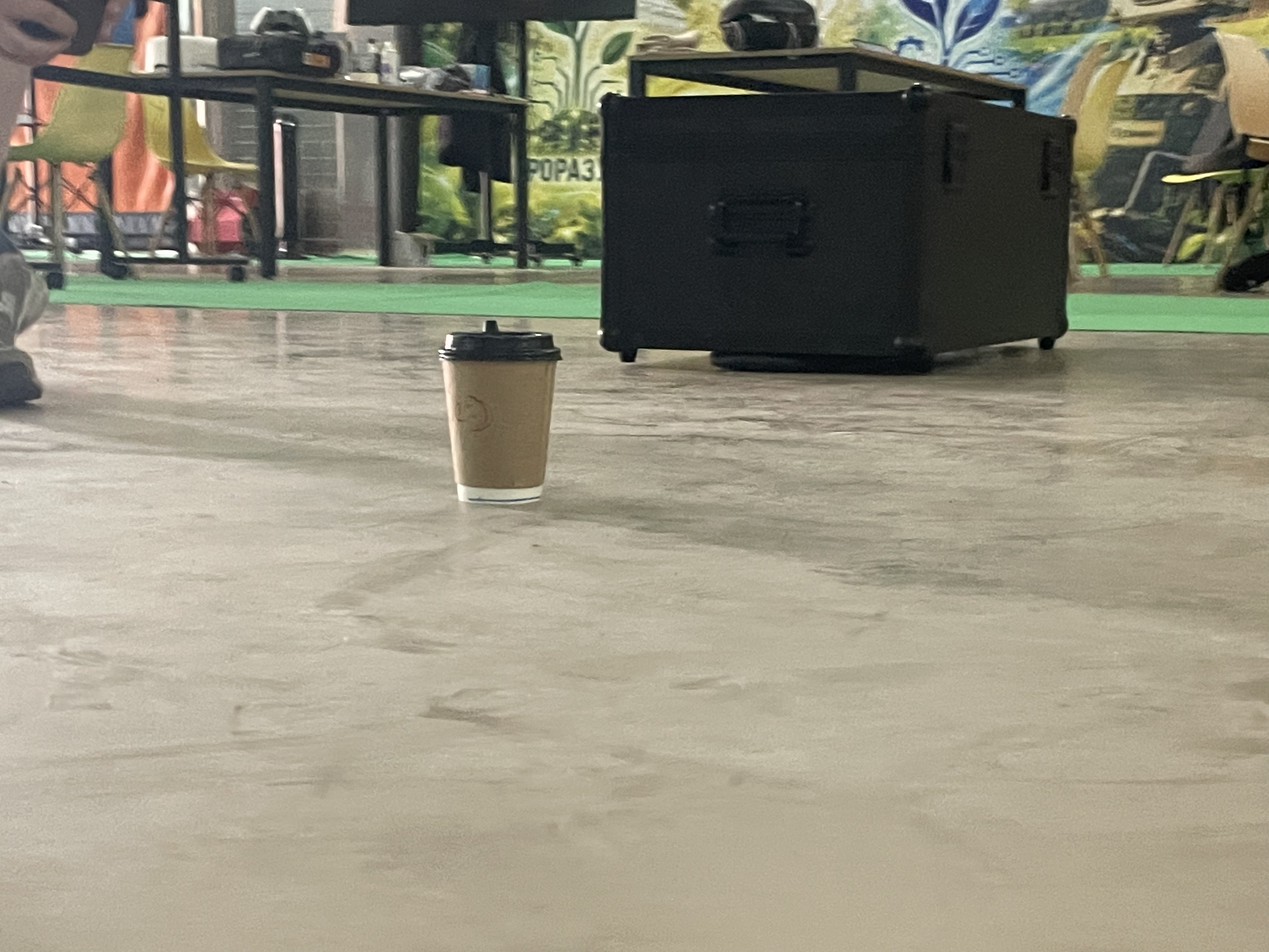cup: (438, 320, 563, 504)
